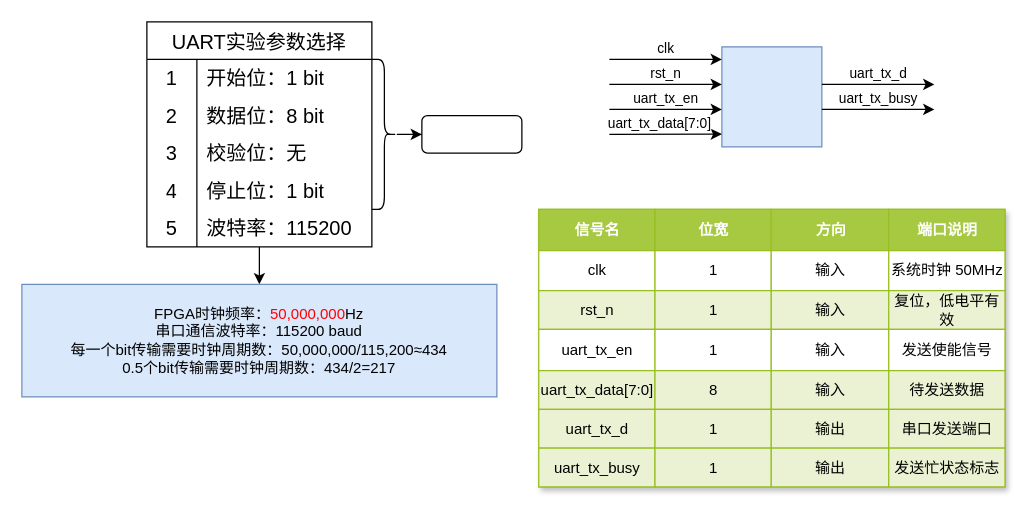
This 1035x518 diagram has some shape labels left out. The shapes that lost their labels are listed below. From the top down, each one's centre as x and y in pixels, then its label:
At [771,96]: "uart_tx".
At [471,133]: "10个bit".
